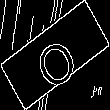O_NW: (28, 22, 82, 88)
